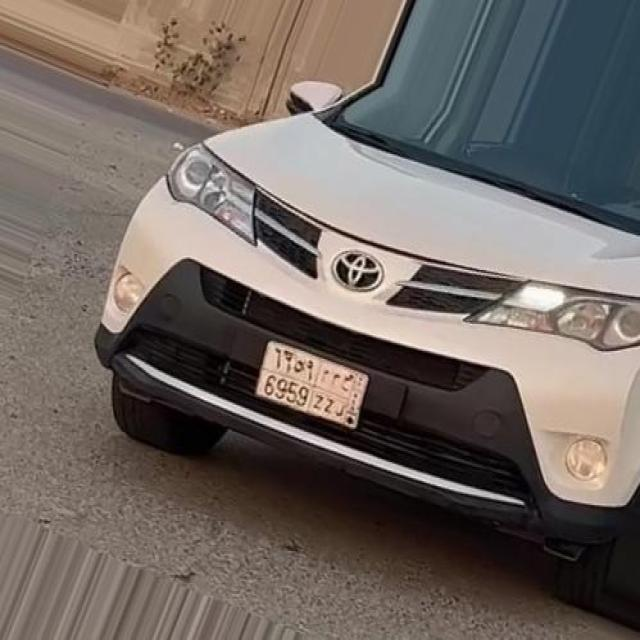Car-plate: (241, 324, 381, 448)
